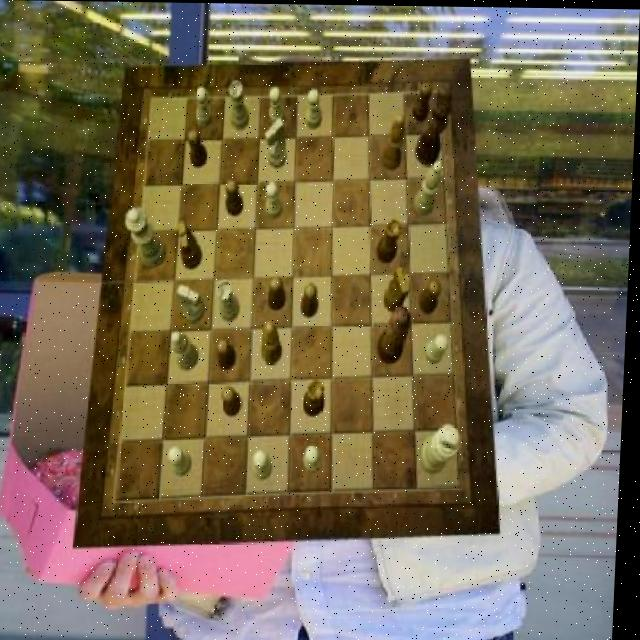bishop: (383, 114, 408, 170), (263, 320, 287, 363)
black-bishop: (416, 85, 454, 165)
black-king: (179, 221, 206, 269), (386, 266, 412, 312)
black-knight: (188, 129, 210, 167), (422, 277, 445, 312), (413, 82, 433, 122), (227, 180, 247, 216), (220, 338, 241, 371), (303, 282, 322, 317), (271, 276, 290, 310), (226, 386, 247, 415)
black-pawn: (380, 304, 415, 363)
black-queen: (378, 219, 404, 263), (305, 379, 329, 417)
black-rook: (414, 160, 443, 215), (174, 330, 204, 370)
white-bishop: (424, 424, 465, 473)
white-king: (265, 117, 290, 168), (180, 284, 210, 323)
white-knight: (196, 86, 215, 127), (171, 445, 196, 476), (266, 182, 285, 220), (270, 86, 288, 125), (428, 333, 452, 362), (307, 88, 324, 128), (257, 450, 278, 479), (308, 444, 327, 472)
white-pawn: (126, 208, 171, 268)
white-queen: (229, 80, 252, 129), (219, 279, 245, 321)
